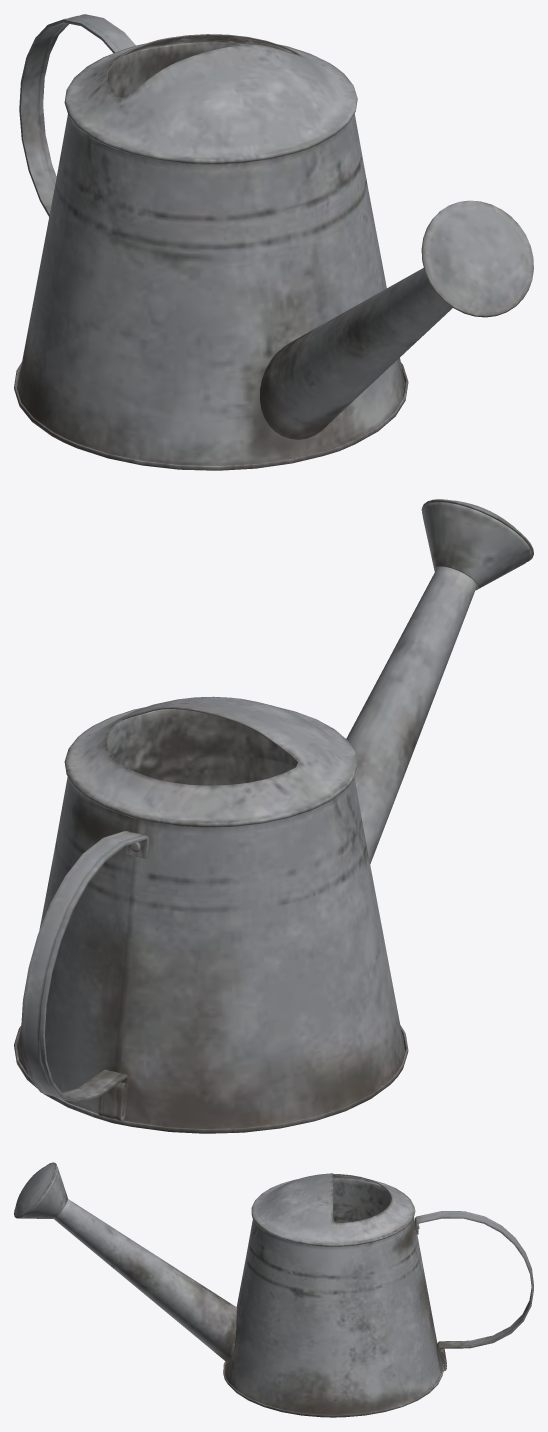
The model's file is watering-can-4bf66e5ae847.glb.
3 renders of one model, top to bottom at view 1: azimuth 30°, elevation 25°; view 2: azimuth 150°, elevation 25°; view 3: azimuth 270°, elevation 25°, orthographic. The views are drawn at different scales.
Parts seen in each view (by area): view 1: watering_can_metal_01; view 2: watering_can_metal_01; view 3: watering_can_metal_01.
Part boxes in pixels (bbox=[...]): watering_can_metal_01: bbox=[14, 14, 533, 470]; watering_can_metal_01: bbox=[14, 499, 533, 1133]; watering_can_metal_01: bbox=[14, 1162, 533, 1417].
Size of the model in its own units: 0.191 by 0.1968 by 0.4523.
Materials: 1 (1 with a texture image).
